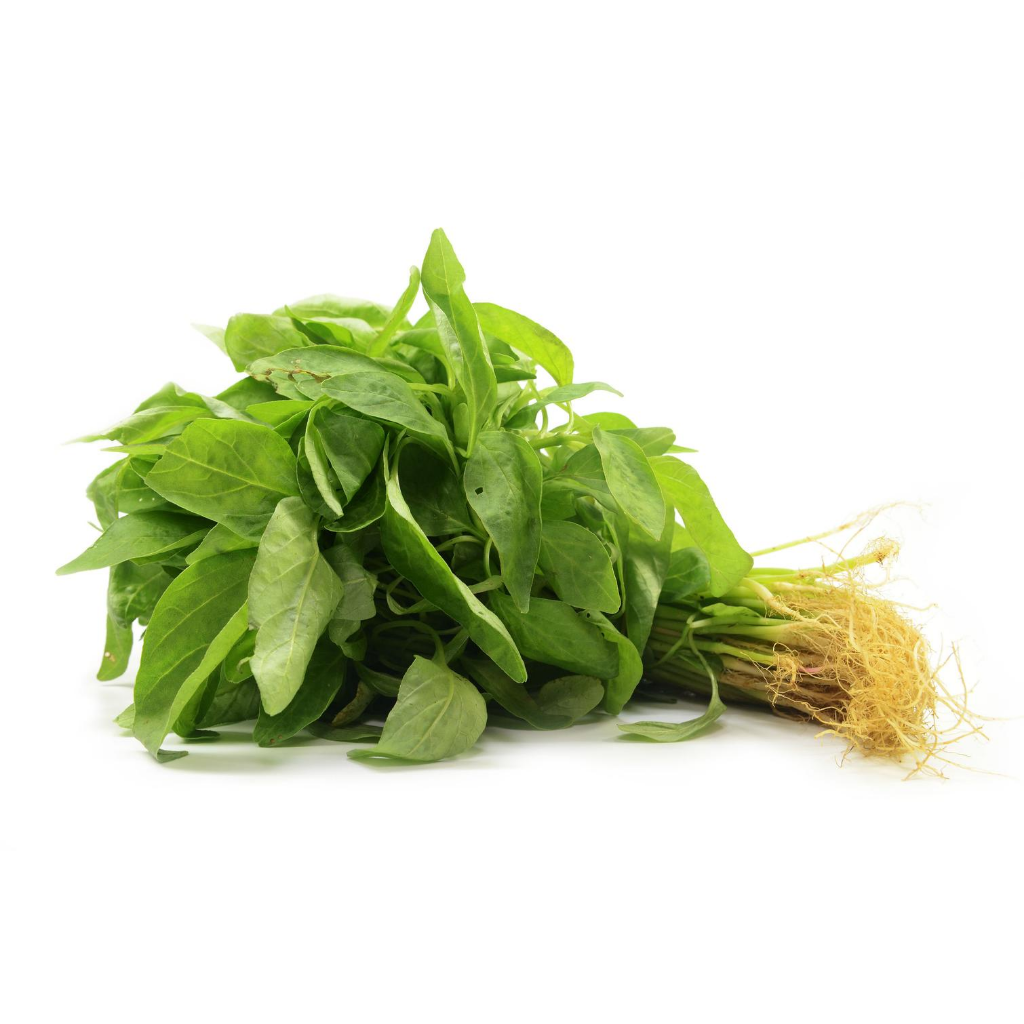Bayam: (42, 213, 996, 866)
